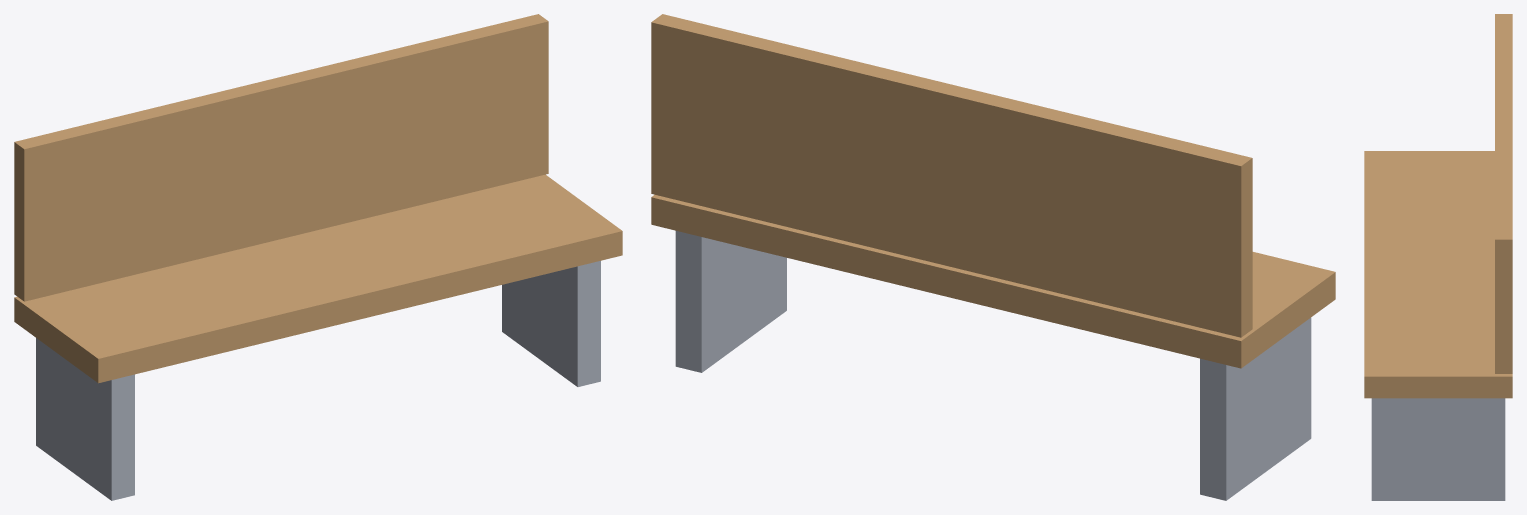
The model's file is Prop_Bench.fbx.
3 renders of one model, left to right at view 1: azimuth 30°, elevation 25°; view 2: azimuth 150°, elevation 25°; view 3: azimuth 270°, elevation 25°, orthographic. The views are drawn at different scales.
Visible parts, largest first — view 1: Prop_Bench; view 2: Prop_Bench; view 3: Prop_Bench.
Part boxes in pixels (box(x1,y1,x2,y2)): Prop_Bench: box(14, 14, 622, 500); Prop_Bench: box(651, 14, 1335, 500); Prop_Bench: box(1364, 14, 1512, 500).
Bounding box in the file's own units: 1.8 × 1 × 0.5.
